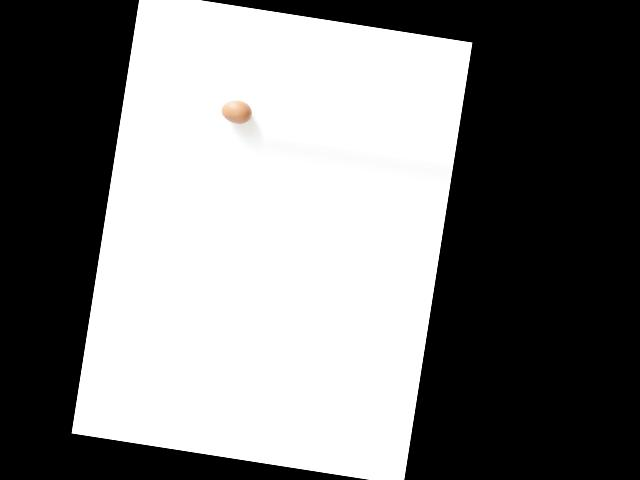egg: (220, 98, 253, 125)
